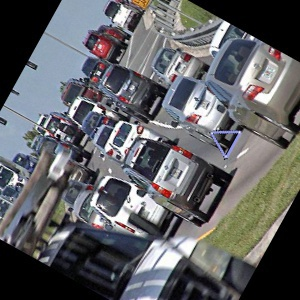triangle: (206, 130, 241, 160)
